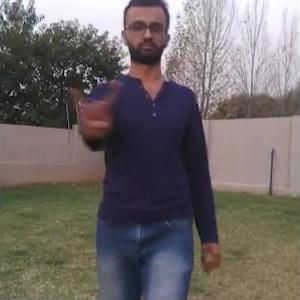takeoff-hand: (63, 71, 121, 140)
